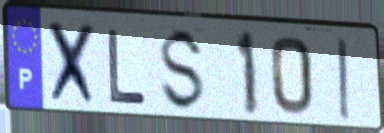0: (268, 34, 317, 119)
1: (232, 28, 262, 119)
I: (335, 36, 355, 122)
L: (105, 26, 150, 107)
S: (157, 25, 208, 115)
X: (46, 18, 101, 111)
